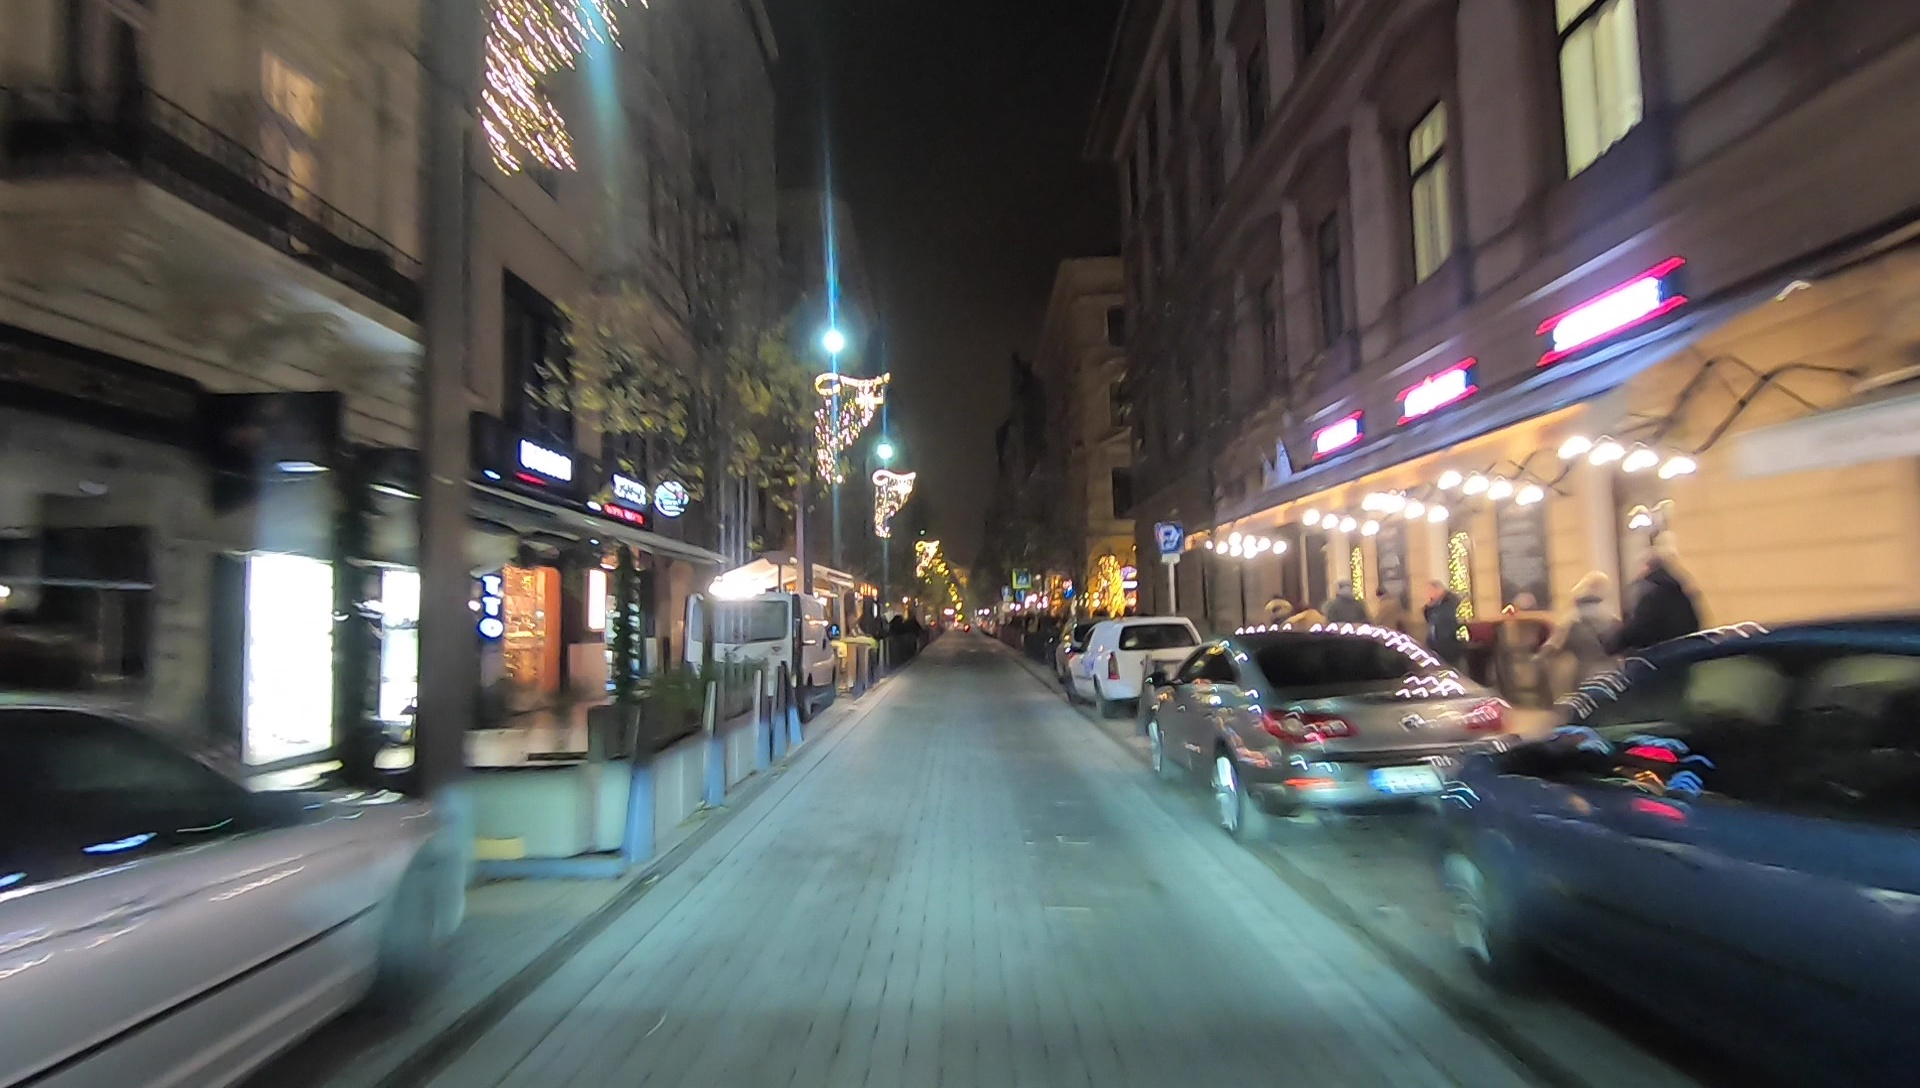person: (1623, 556, 1695, 715), (1560, 571, 1619, 726), (1323, 578, 1371, 680), (1419, 578, 1460, 682)
